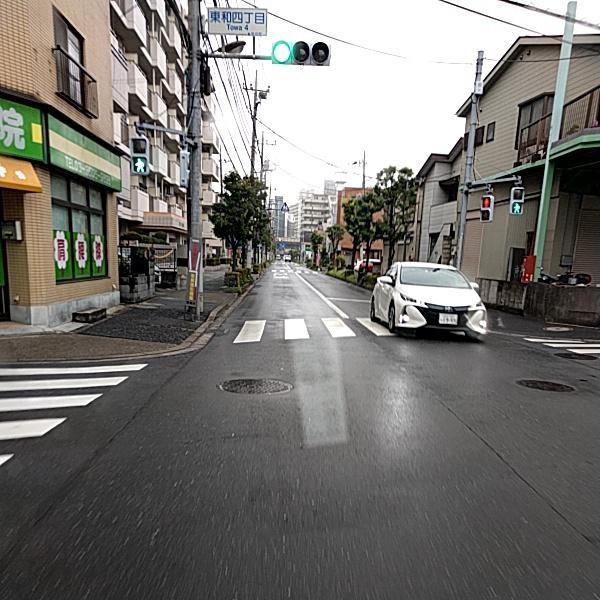D50: (220, 373, 292, 397), (516, 377, 577, 392)
